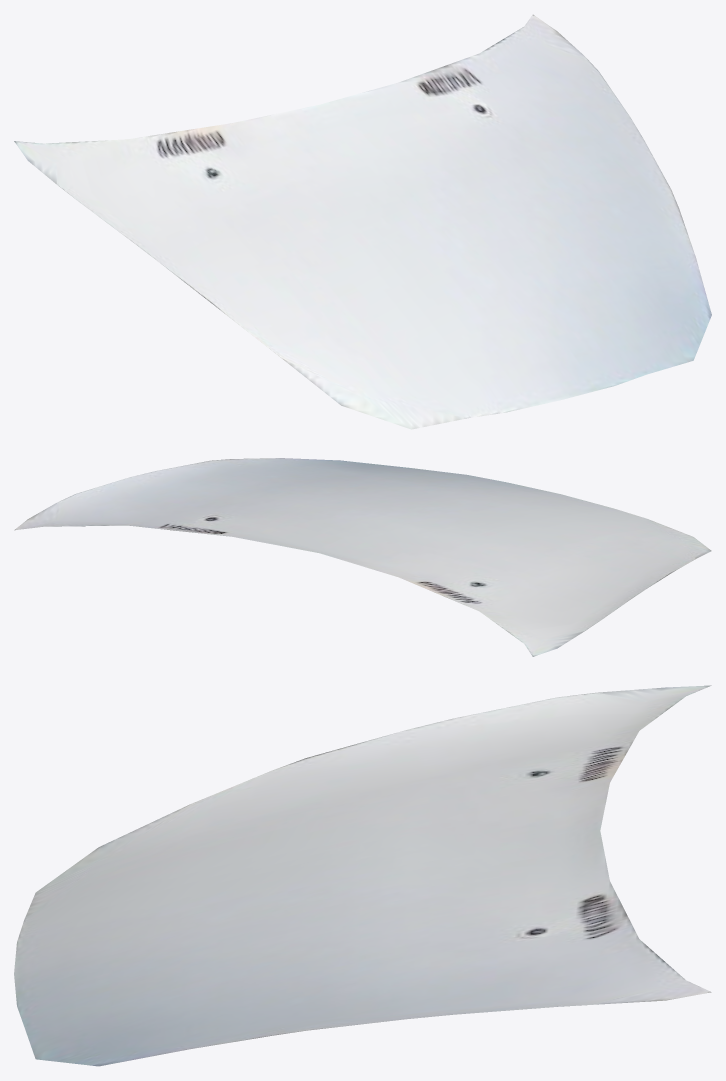
File: Cofre_CarroText.obj
3 views of the same model, one above another, from view 1: azimuth 30°, elevation 25°; view 2: azimuth 150°, elevation 25°; view 3: azimuth 270°, elevation 25° (orthographic). The views are drawn at different scales.
Parts seen in each view (by area): view 1: Cofre_Carro; view 2: Cofre_Carro; view 3: Cofre_Carro.
Boxes of the visible parts, <box> form: Cofre_Carro: <box>14,14,711,429</box>; Cofre_Carro: <box>14,458,711,656</box>; Cofre_Carro: <box>14,685,711,1066</box>.
Size of the model in its own units: 40.36 by 8.72 by 38.01.
